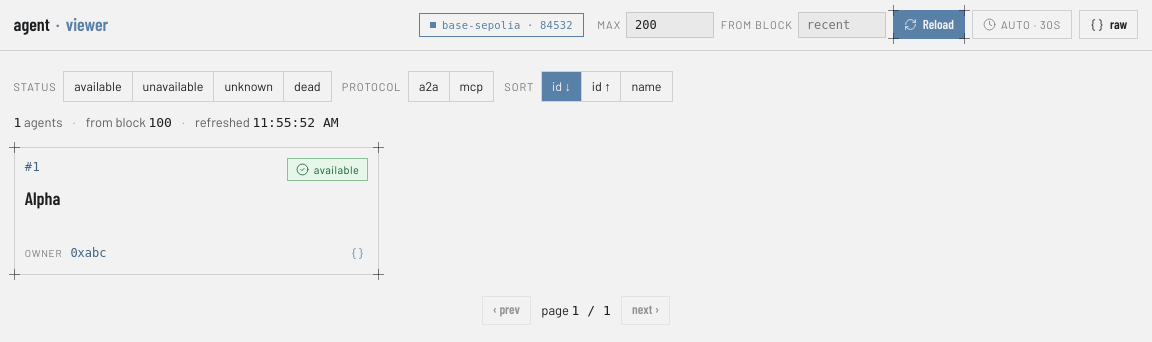
it: App › keeps showing stale agents while a reload is in flight
Expected: the text "Alpha" is shown, [25,187,60,209]
Click the button "Reload": (929, 25) [893,10,965,39]
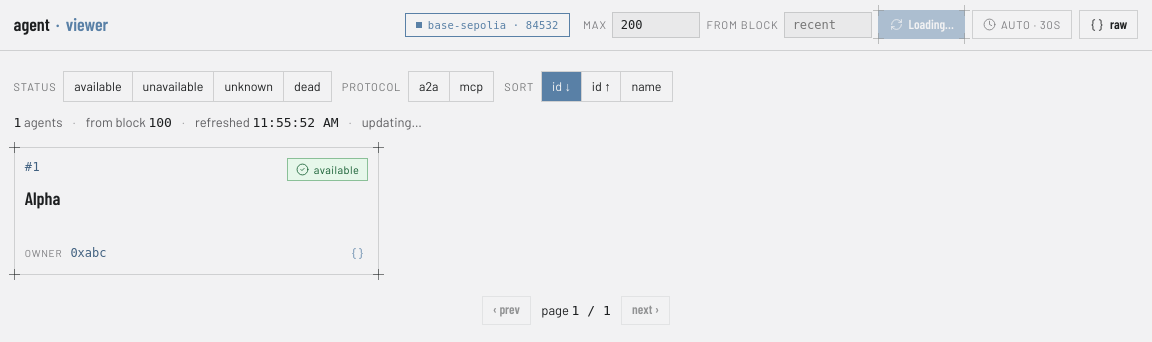
Expected: the text "Alpha" is shown, [25,187,60,209]
Now the element with test id "meta" shows "updating…", box [362,114,422,130]
